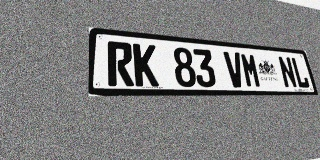3: (193, 48, 217, 87)
8: (172, 47, 197, 87)
K: (133, 43, 159, 87)
L: (290, 57, 310, 88)
M: (240, 53, 262, 88)
N: (277, 56, 298, 88)
R: (107, 41, 134, 86)
V: (223, 51, 246, 88)
